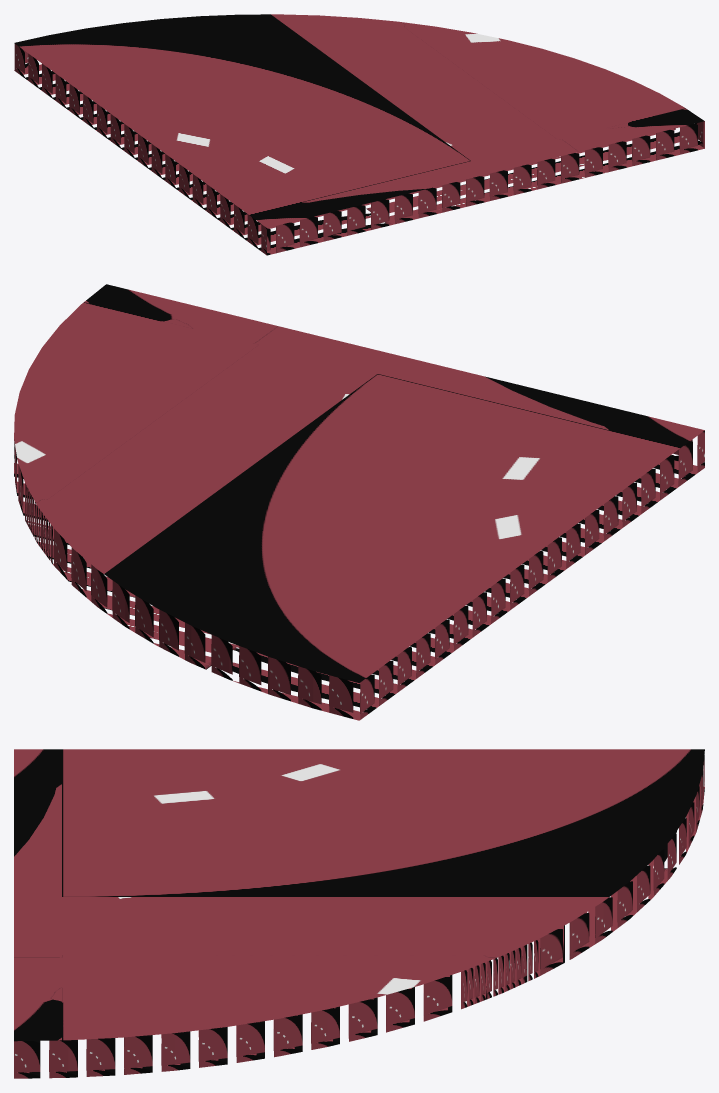
Rendered from turn.obj.
3 views of the same model, one above another, from view 1: azimuth 30°, elevation 25°; view 2: azimuth 150°, elevation 25°; view 3: azimuth 270°, elevation 25° (orthographic). The views are drawn at different scales.
Parts seen in each view (by area): view 1: Lane.004; view 2: Lane.004; view 3: Lane.004.
Part boxes in pixels (<box>): Lane.004: <box>14,14,704,255</box>; Lane.004: <box>14,284,704,720</box>; Lane.004: <box>14,749,704,1078</box>.
Size of the model in its own units: 4 by 0.24 by 4.
